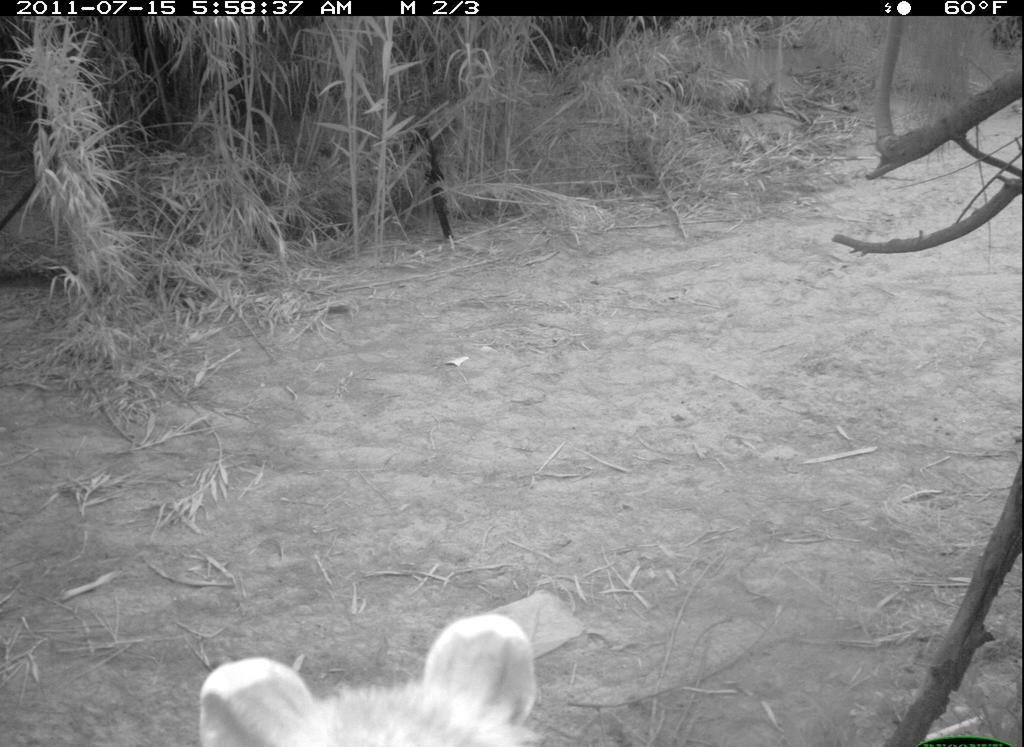opossum: (200, 612, 546, 747)
